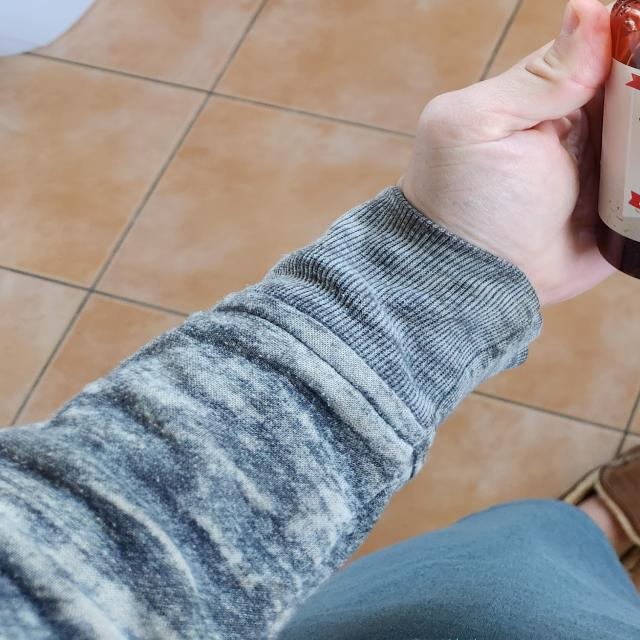vanilla: (601, 0, 640, 293)
